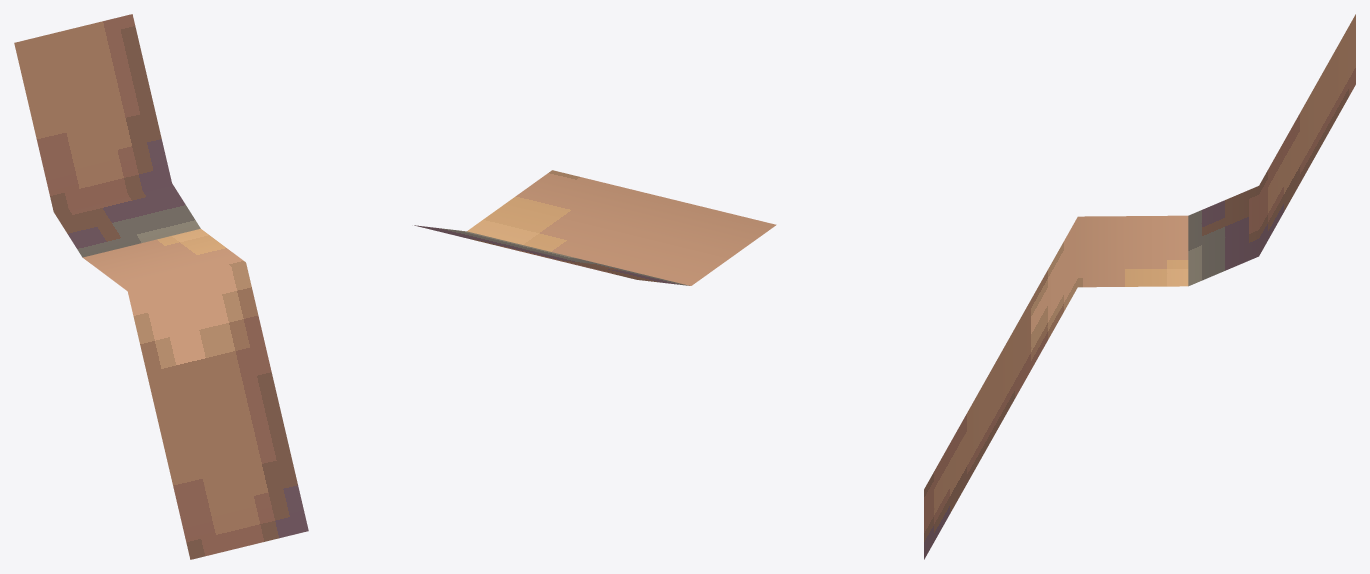
3 views of the same model, side by side, from view 1: azimuth 30°, elevation 25°; view 2: azimuth 150°, elevation 25°; view 3: azimuth 270°, elevation 25° (orthographic). The views are drawn at different scales.
Size of the model in its own units: 0.5 by 1.57 by 1.29.
Materials: 1 (1 with a texture image).
